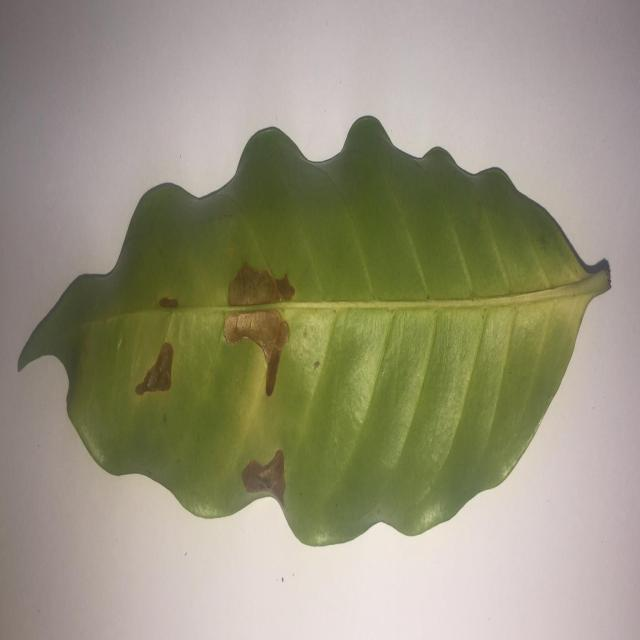miner: (224, 309, 289, 396), (227, 263, 295, 306), (242, 450, 285, 508), (136, 342, 173, 395), (159, 296, 178, 309)
